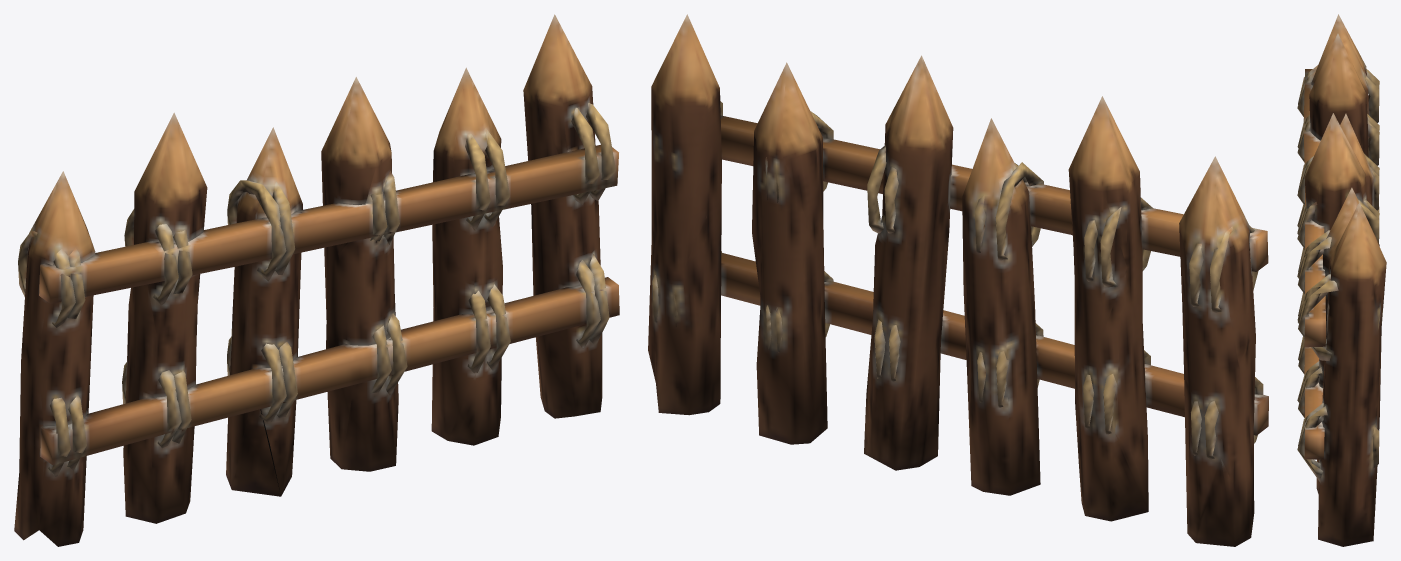
File: fence.glb
3 views of the same model, side by side, from view 1: azimuth 30°, elevation 25°; view 2: azimuth 150°, elevation 25°; view 3: azimuth 270°, elevation 25° (orthographic). The views are drawn at different scales.
Visible parts, largest first — view 1: fence; view 2: fence; view 3: fence.
Boxes of the visible parts, x1,y1,x2,y2 form: fence: (14, 14, 619, 546); fence: (648, 14, 1268, 546); fence: (1297, 14, 1386, 546).
Bounding box in the file's own units: 1.88 × 1.23 × 0.2944.
1 material, 1 textured.
